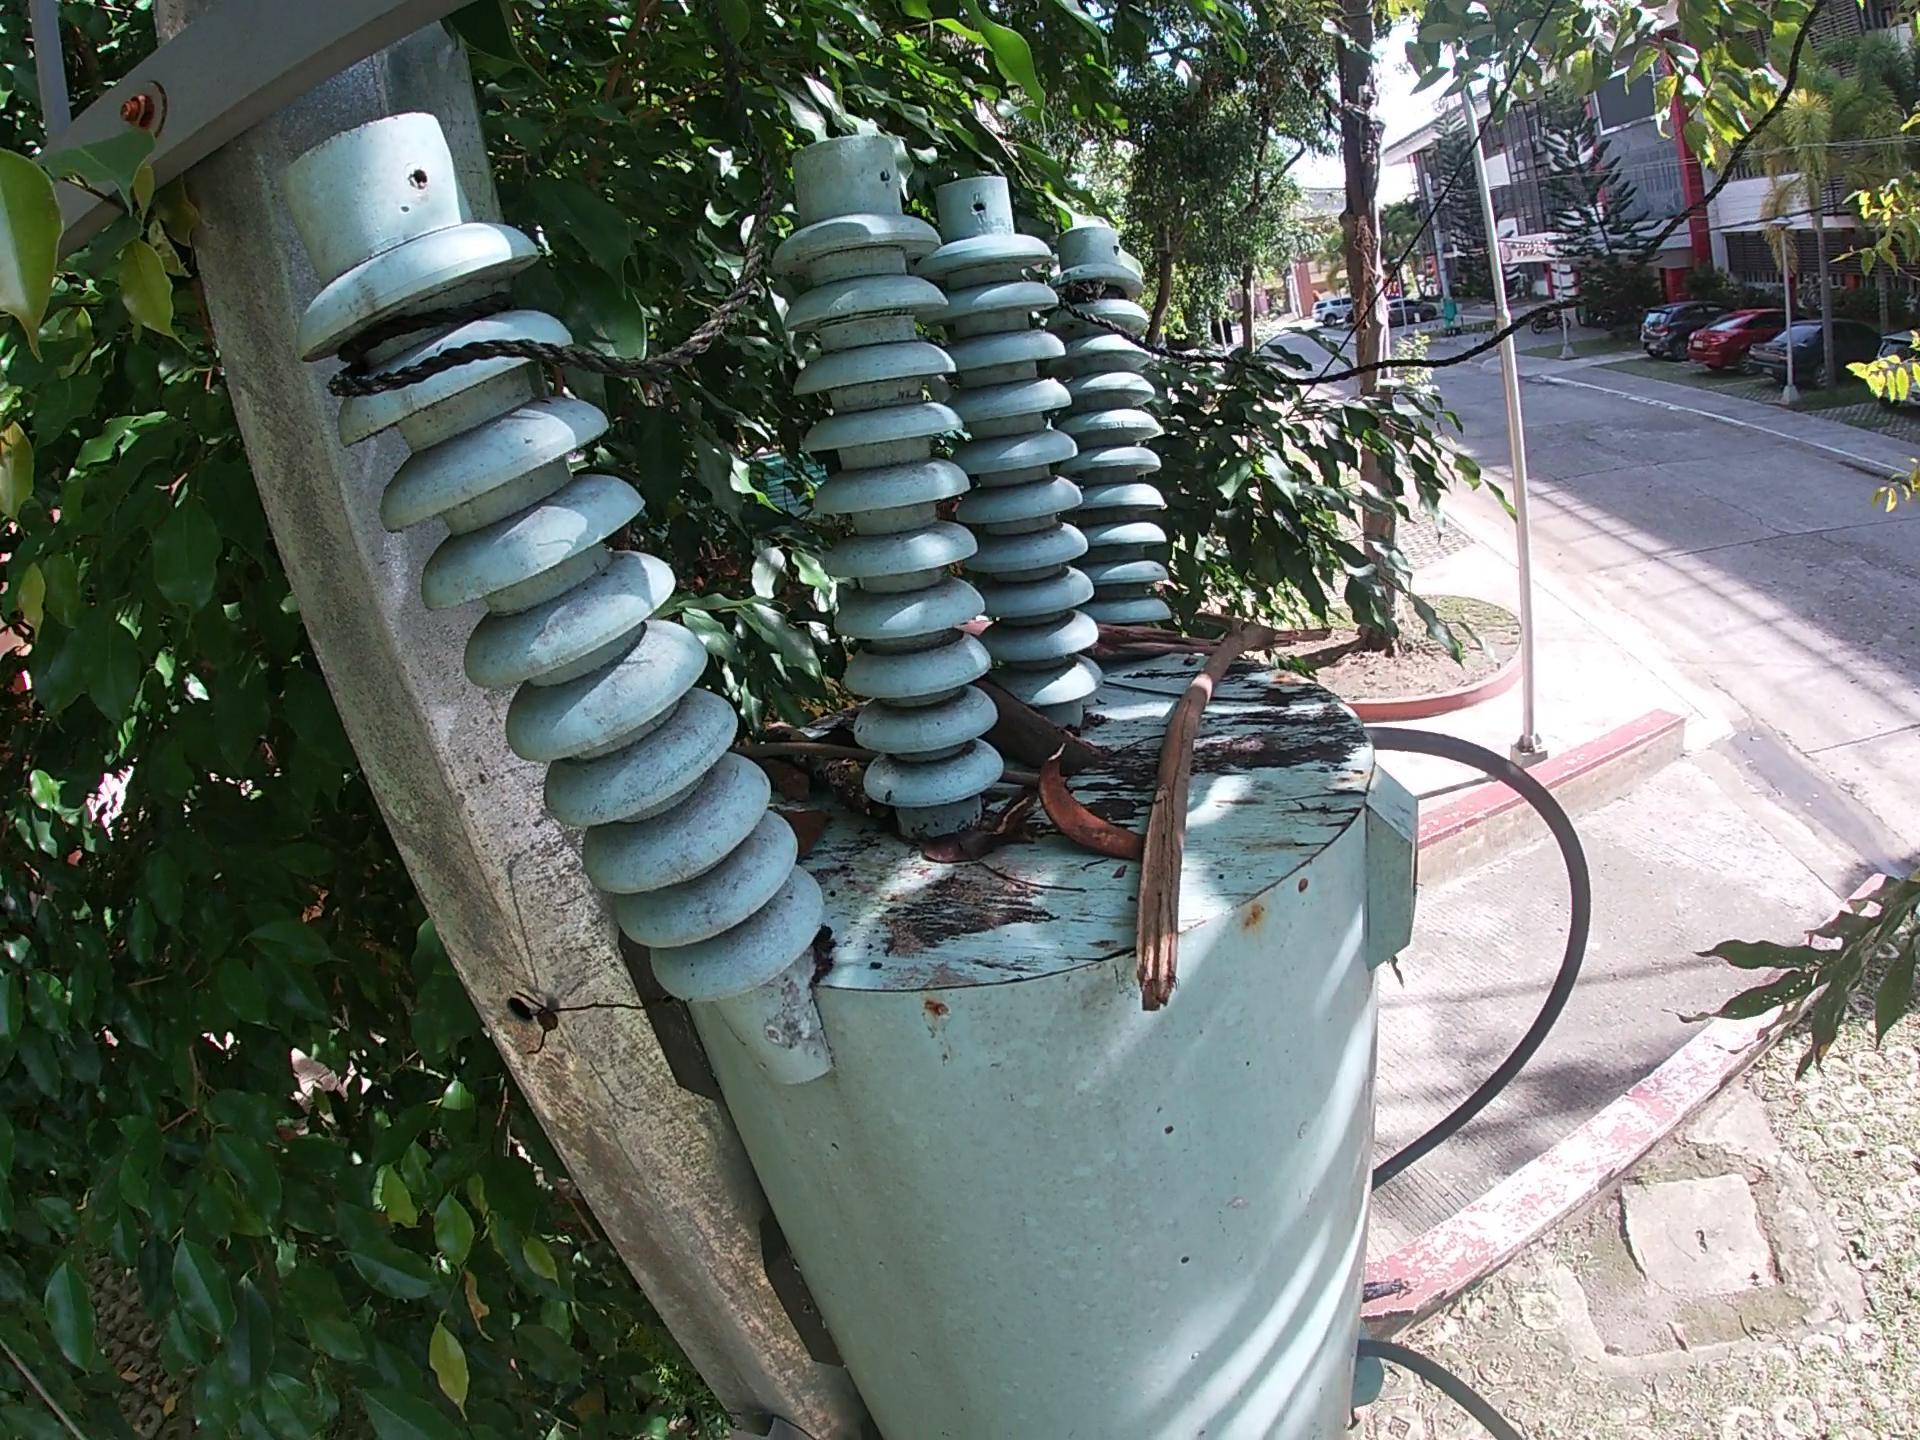leaf: (915, 827, 990, 871), (794, 796, 835, 858), (815, 718, 857, 762), (774, 773, 822, 799)
mahogany fruit: (974, 684, 1113, 771), (1030, 753, 1140, 864)
tree branch: (1154, 596, 1336, 1036), (765, 726, 887, 808), (1098, 620, 1209, 663), (977, 862, 1089, 905), (736, 737, 872, 759), (1101, 672, 1181, 709), (987, 790, 1030, 852), (1215, 690, 1291, 711), (966, 616, 1004, 634), (1004, 768, 1037, 787)
